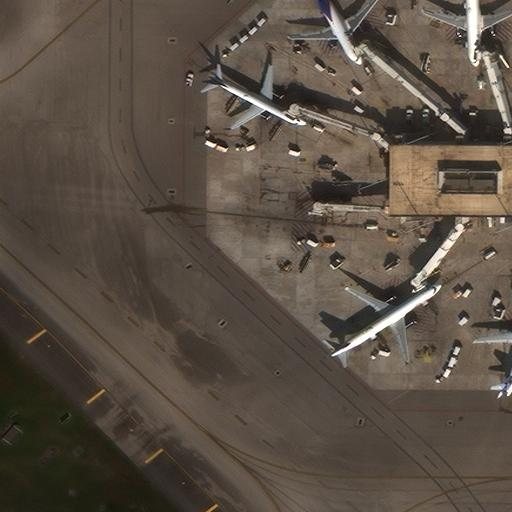Medium Civil Transport: (330, 285, 441, 363), (208, 65, 306, 130), (422, 0, 511, 67), (290, 0, 379, 65), (475, 316, 511, 397)
